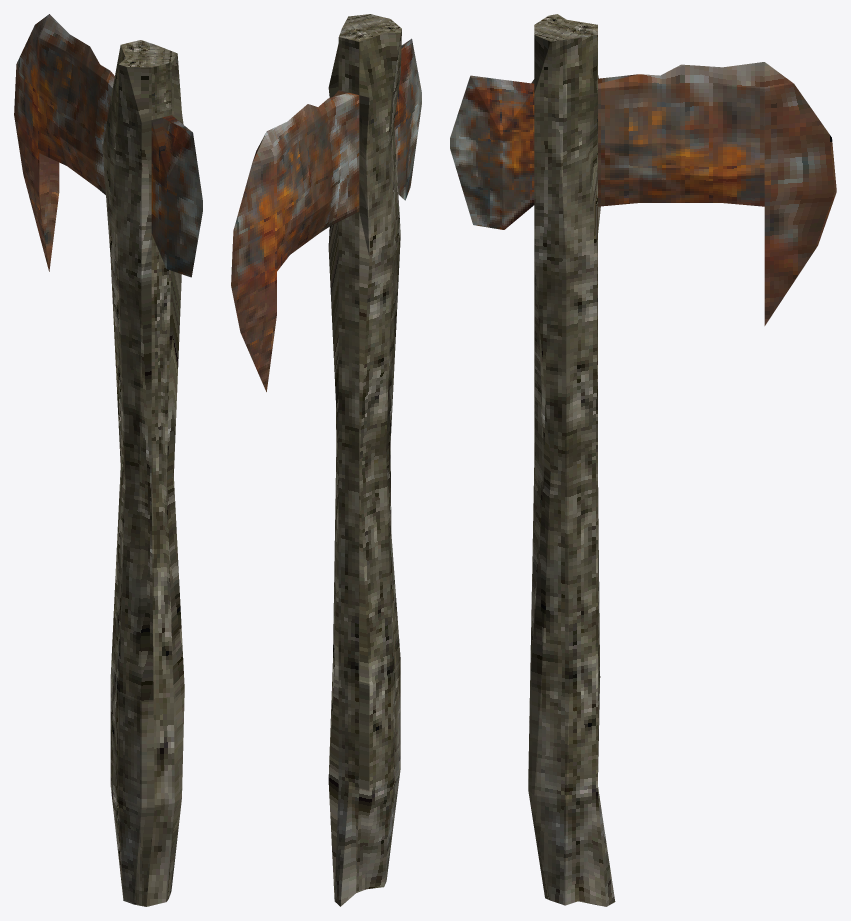
Rendered from handaxe.glb.
The picture shows the model from 3 angles, left to right: view 1: azimuth 30°, elevation 25°; view 2: azimuth 150°, elevation 25°; view 3: azimuth 270°, elevation 25°; orthographic projection. The views are drawn at different scales.
Visible parts, largest first — view 1: axe; view 2: axe; view 3: axe.
Boxes of the visible parts, x1,y1,x2,y2 form: axe: (14, 14, 202, 906); axe: (231, 14, 421, 906); axe: (450, 14, 836, 906).
Bounding box in the file's own units: 0.1615 × 2.02 × 0.8118.
Materials: 1 (1 with a texture image).
